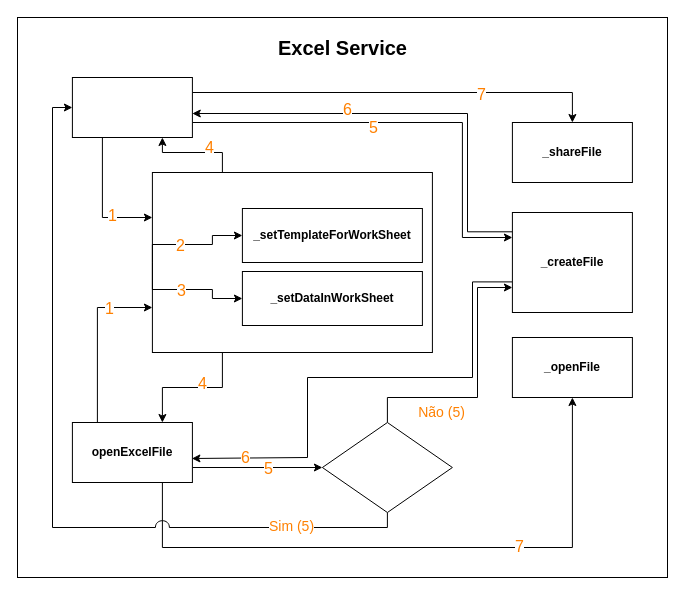
Image size: 685x595. Some labels were removed from this diagram. The box of each missing label's shape, as (x1, y1, x2, y2) in pixels:
_generateSheetData: (151, 172, 432, 352)
shareExcelFile: (71, 76, 192, 138)
É mais de 1 arquivo?: (321, 422, 452, 512)
